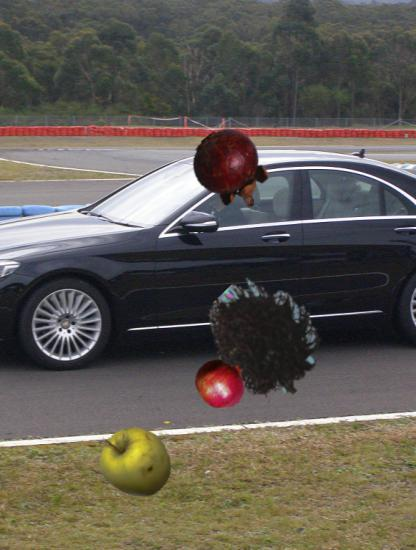Apple: (95, 421, 175, 501)
Mangostan: (190, 128, 275, 213)
Pomegranate: (195, 357, 248, 410)
Rambutan: (203, 277, 326, 400)
